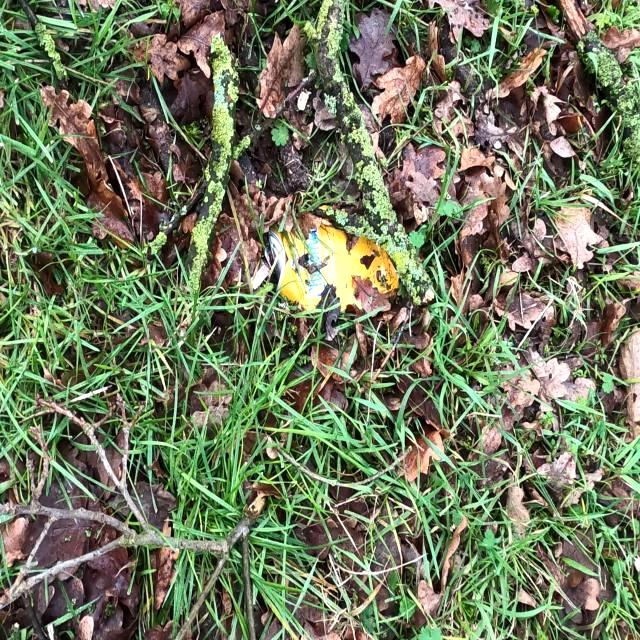Metal: (262, 204, 400, 316)
